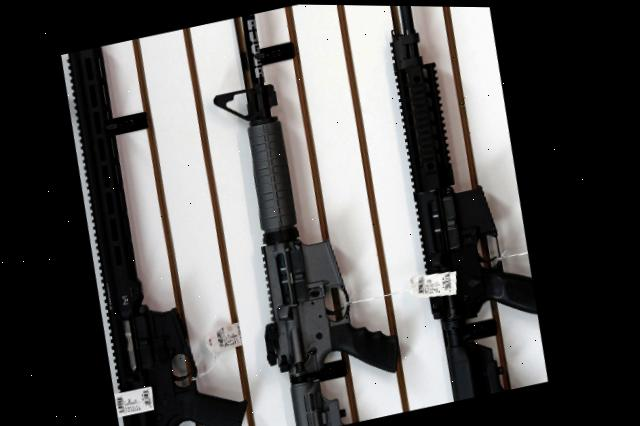rifle: (193, 3, 443, 426), (39, 26, 281, 426), (358, 4, 575, 402)
